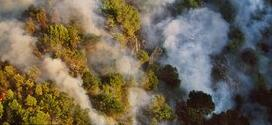yanwu: (146, 1, 270, 115), (55, 1, 148, 120), (1, 19, 105, 123)
